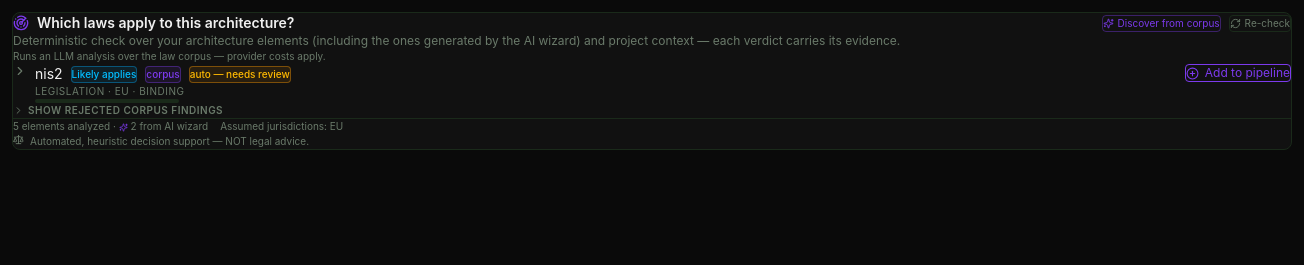
Test: ApplicabilityCheck — Discover from corpus (UC-LAW-002 Slice-2b) › confirm/reject flows (AC-3, Review-Fix 2) › reject on a "corpus"-only assessment: the whole assessment disappears from the main list
Click the text "nis2". click: (49, 74)
box: [35,64,63,84]
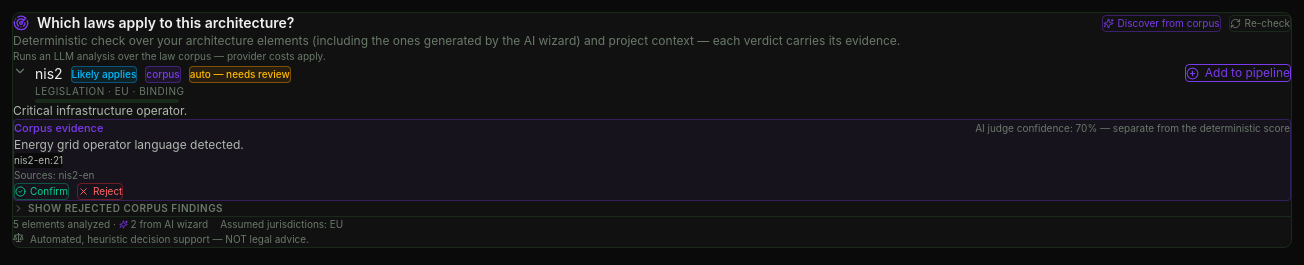
Click the button "Reject". click: (100, 191)
box: [77,182,123,200]
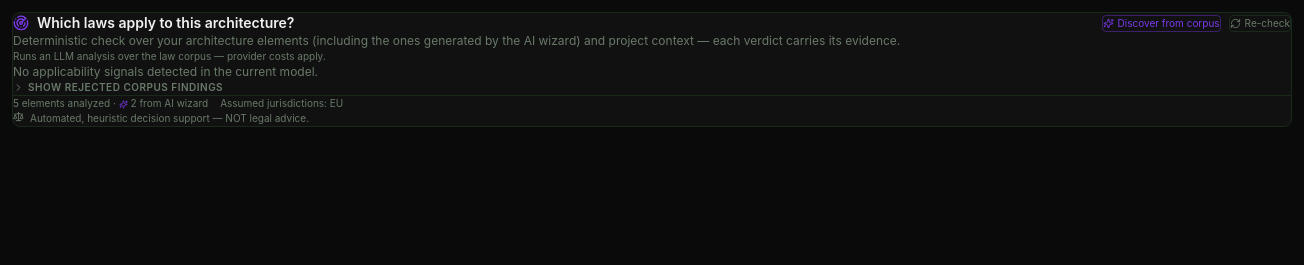
expect the button "nis2" is gone: met
